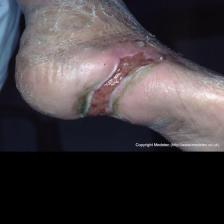Wound: (67, 44, 167, 119)
